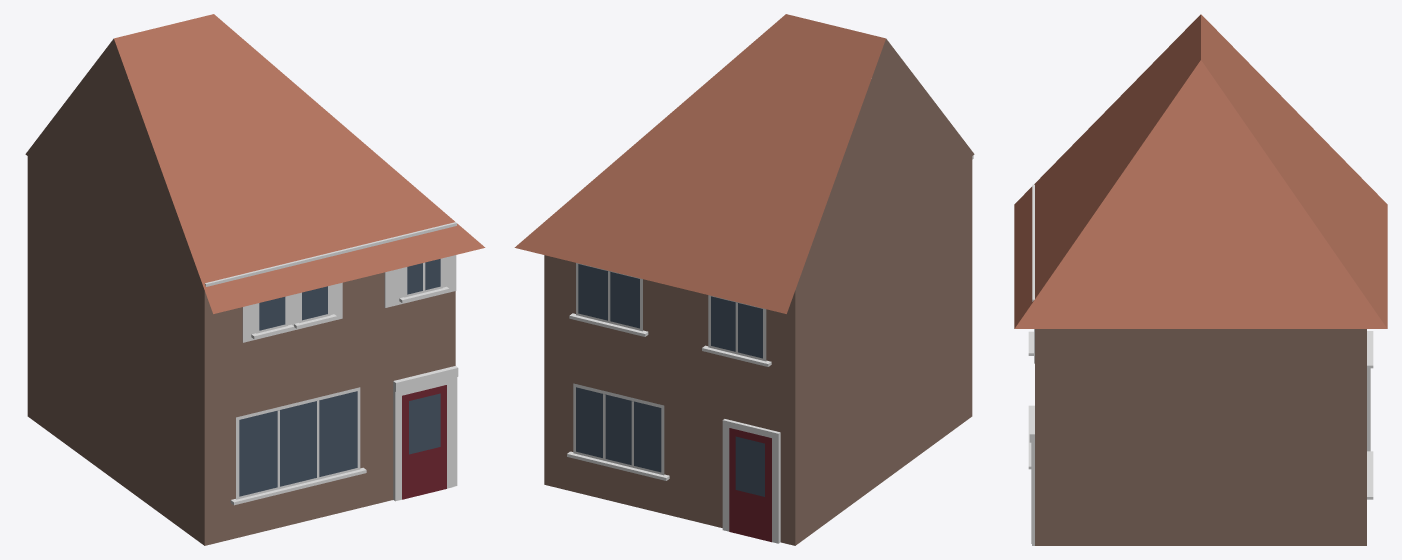
Rendered from nn-band__panels__2__hip__long__solid__endR__mirror.glb.
3 renders of one model, left to right at view 1: azimuth 30°, elevation 25°; view 2: azimuth 150°, elevation 25°; view 3: azimuth 270°, elevation 25°, orthographic. The views are drawn at different scales.
Parts seen in each view (by area): view 1: nn-band__panels__2__hip__long__solid__endR__mirror; view 2: nn-band__panels__2__hip__long__solid__endR__mirror; view 3: nn-band__panels__2__hip__long__solid__endR__mirror.
Boxes of the visible parts, box(x1,y1,x2,y2) form: nn-band__panels__2__hip__long__solid__endR__mirror: box(25, 14, 485, 545); nn-band__panels__2__hip__long__solid__endR__mirror: box(514, 14, 974, 545); nn-band__panels__2__hip__long__solid__endR__mirror: box(1014, 14, 1387, 545).
Size of the model in its own units: 5.75 by 8.95 by 7.27.
